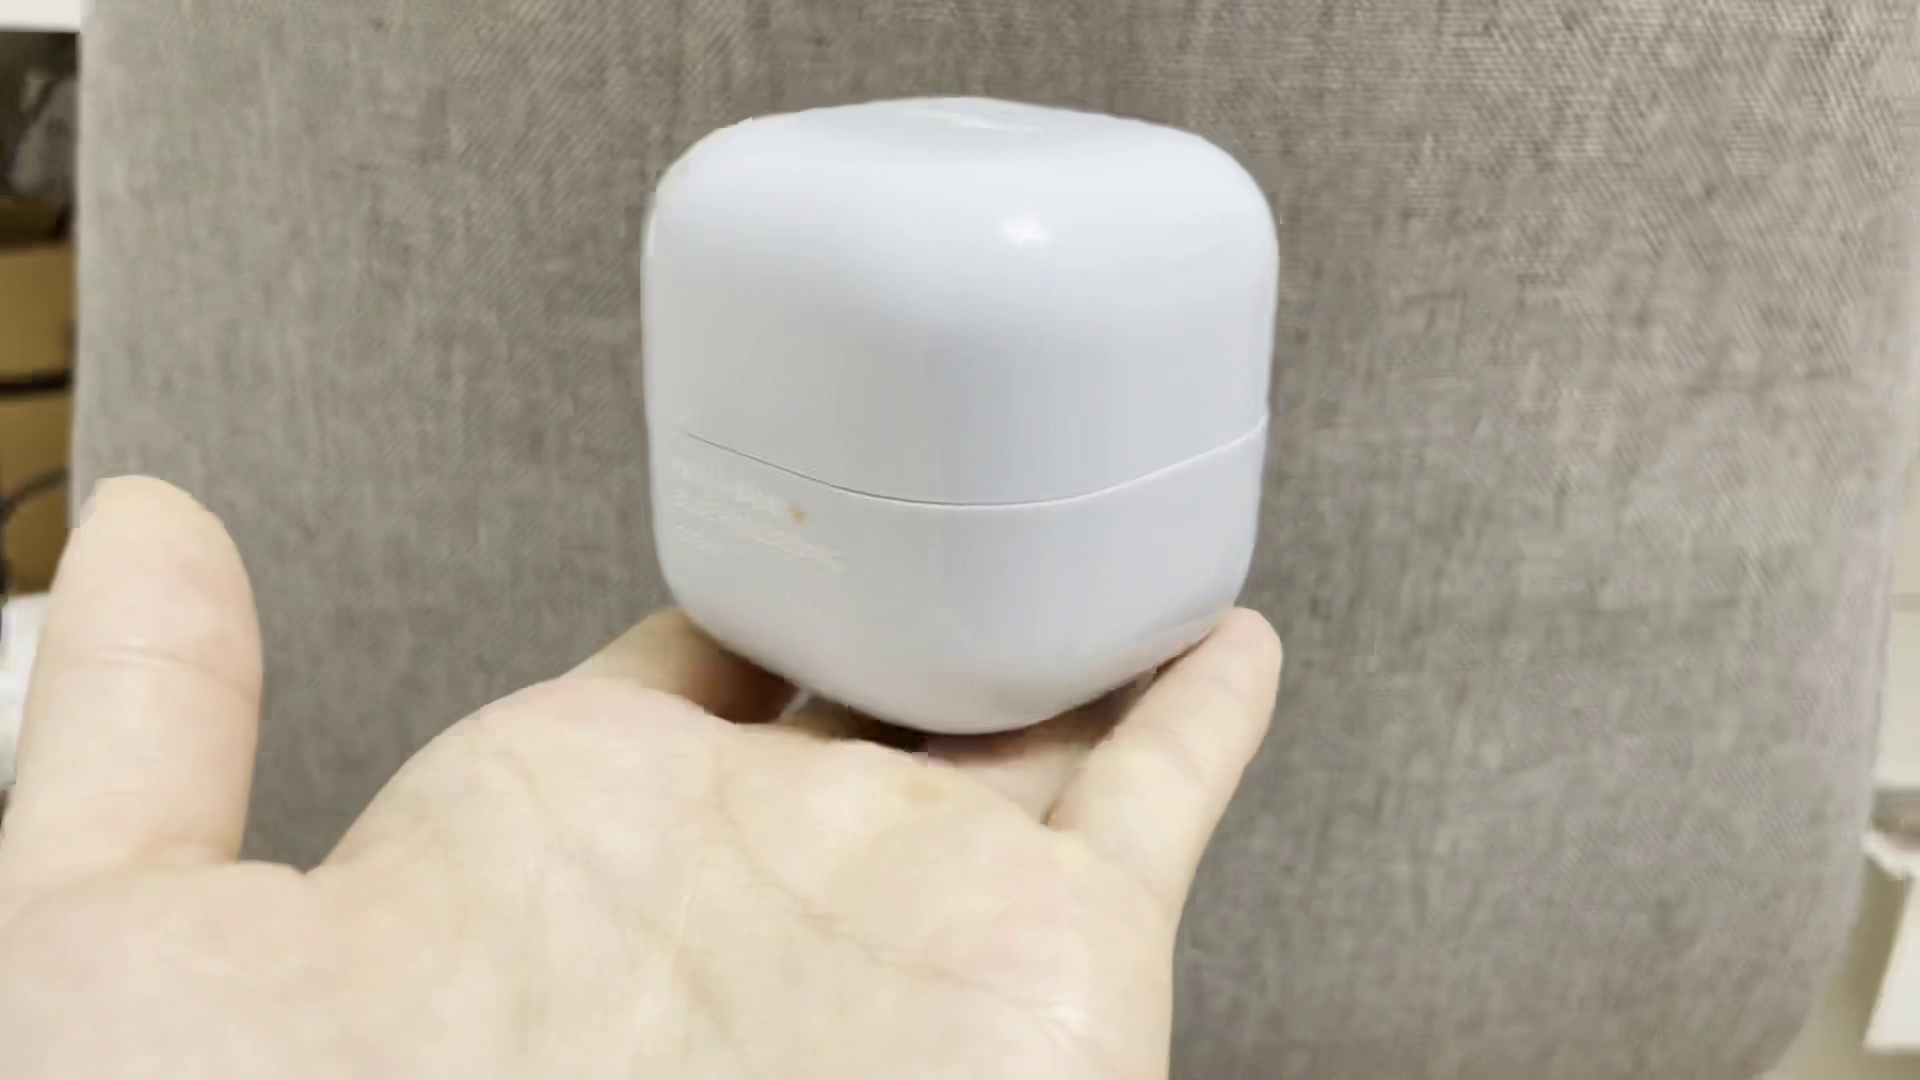cream: (640, 92, 1274, 735)
